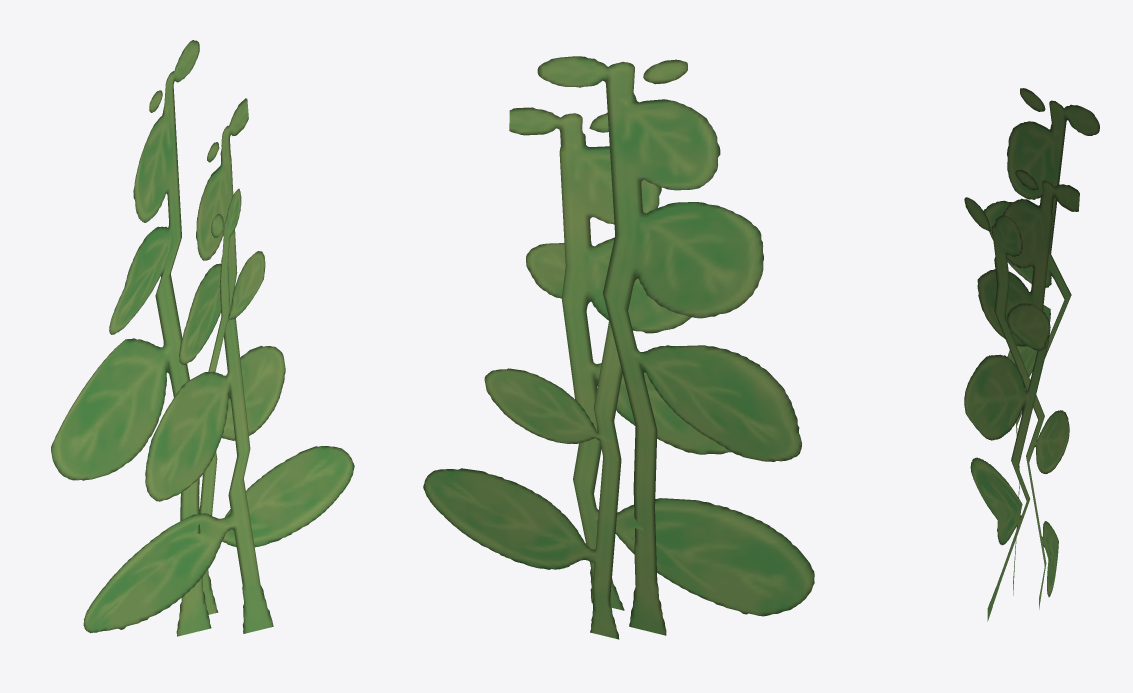
File: LeafSetE_8.fbx
The picture shows the model from 3 angles, left to right: view 1: azimuth 30°, elevation 25°; view 2: azimuth 150°, elevation 25°; view 3: azimuth 270°, elevation 25°; orthographic projection. The views are drawn at different scales.
Parts seen in each view (by area): view 1: LeafSetE_8; view 2: LeafSetE_8; view 3: LeafSetE_8.
Boxes of the visible parts, x1,y1,x2,y2 form: LeafSetE_8: (51,40,354,636); LeafSetE_8: (423,56,814,639); LeafSetE_8: (964,88,1099,621).
Size of the model in its own units: 0.48 by 0.6947 by 0.2748.
